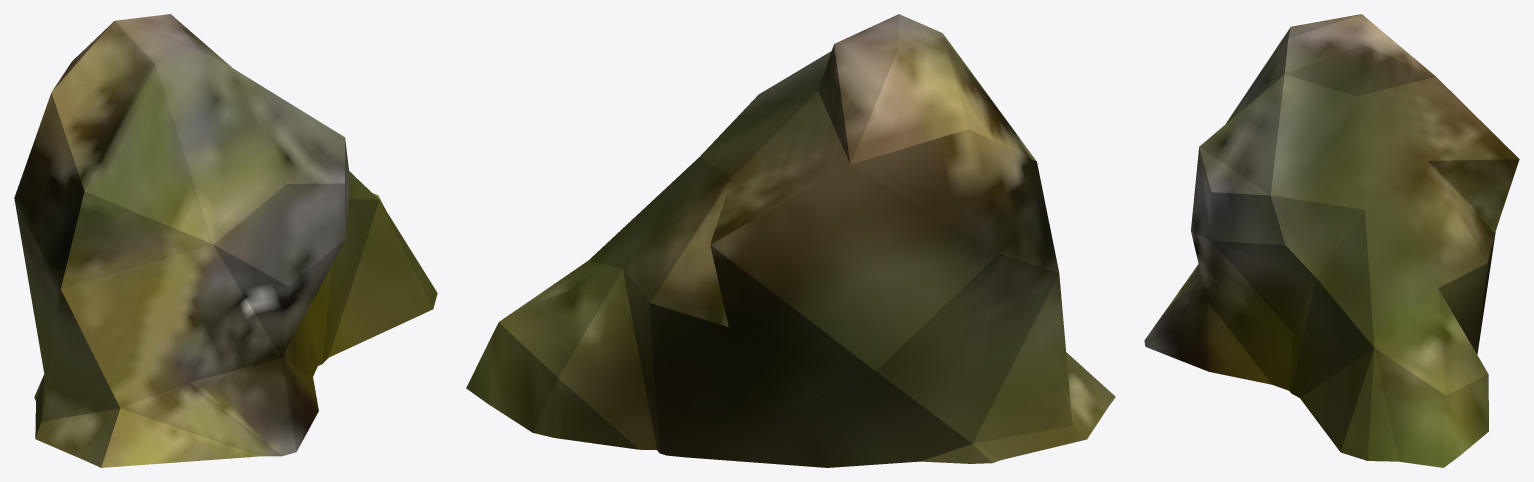
3 views of the same model, side by side, from view 1: azimuth 30°, elevation 25°; view 2: azimuth 150°, elevation 25°; view 3: azimuth 270°, elevation 25° (orthographic). The views are drawn at different scales.
Bounding box in the file's own units: 0.133 × 0.0963 × 0.1062.
Materials: 1 (1 with a texture image).
